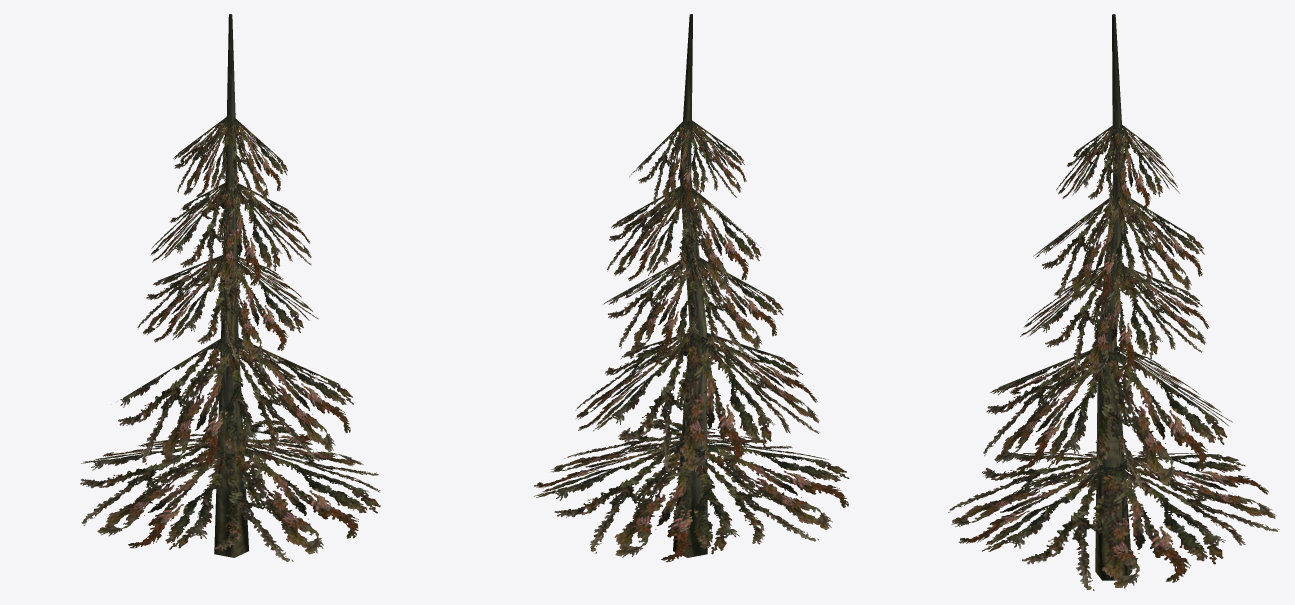
Rendered from INST_OH_PINE_01.fbx.
The picture shows the model from 3 angles, left to right: view 1: azimuth 30°, elevation 25°; view 2: azimuth 150°, elevation 25°; view 3: azimuth 270°, elevation 25°; orthographic projection. The views are drawn at different scales.
Visible parts, largest first — view 1: INST_OH_PINE_01; view 2: INST_OH_PINE_01; view 3: INST_OH_PINE_01.
Part boxes in pixels (x1=…): INST_OH_PINE_01: x1=80, y1=14, x2=380, y2=561; INST_OH_PINE_01: x1=534, y1=14, x2=849, y2=562; INST_OH_PINE_01: x1=948, y1=14, x2=1279, y2=590.
Bounding box in the file's own units: 8804 × 15772 × 8804.
2 materials, 2 textured.
